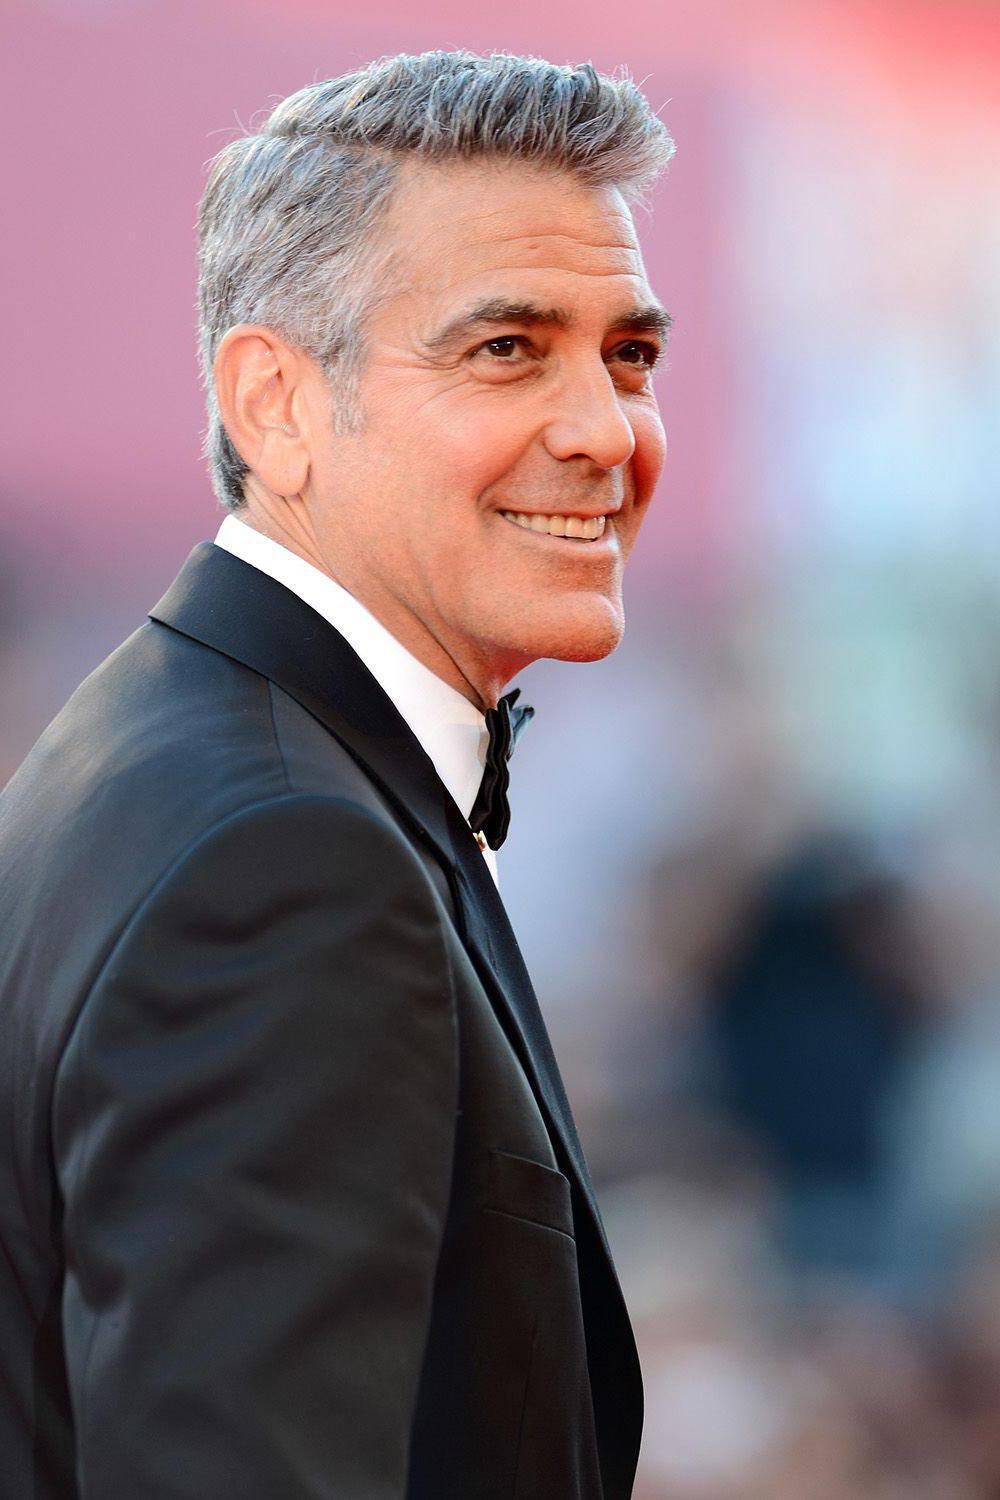Sober: (335, 161, 658, 660)
